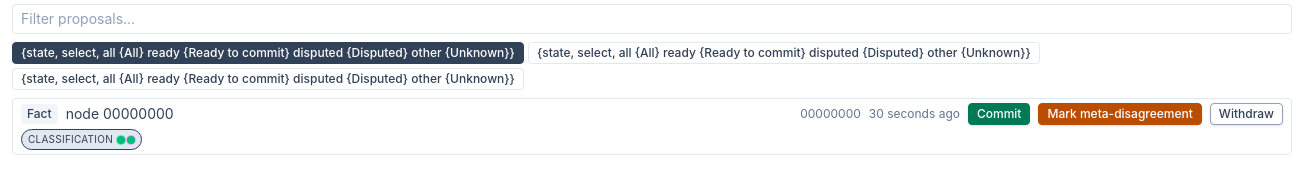
Test case: PendingProposalsPane — commit button per row › click on a facet-valued row sends the canonical facet-arm commit envelope shape
Click the button with test id "commit-button".
click(999, 114)  # box [968, 103, 1030, 125]
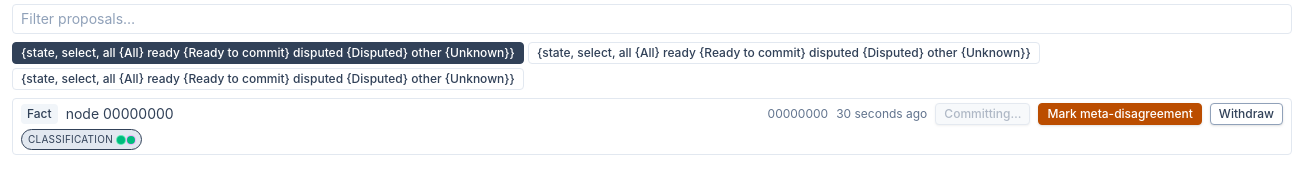
Now the button with test id "commit-button" reads "Committing…", box [935, 103, 1030, 125]
